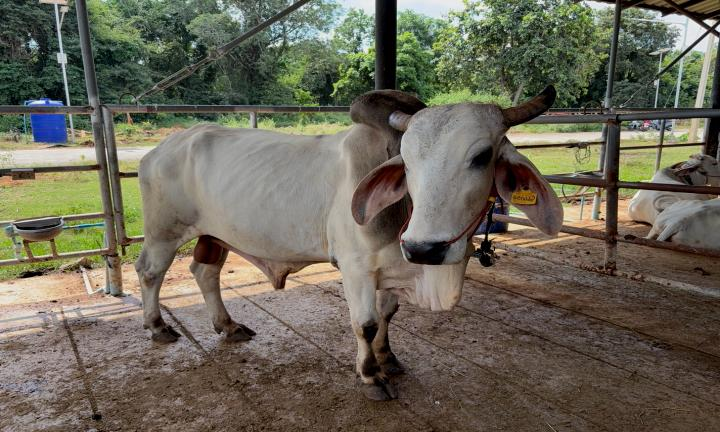Brahman: (135, 85, 563, 400)
